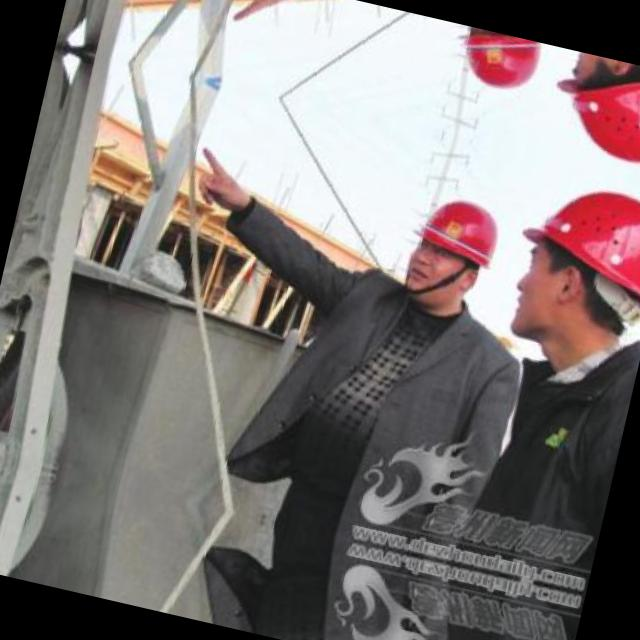helmet: (479, 153, 640, 385), (386, 168, 514, 330), (523, 44, 640, 190), (435, 22, 549, 118)
